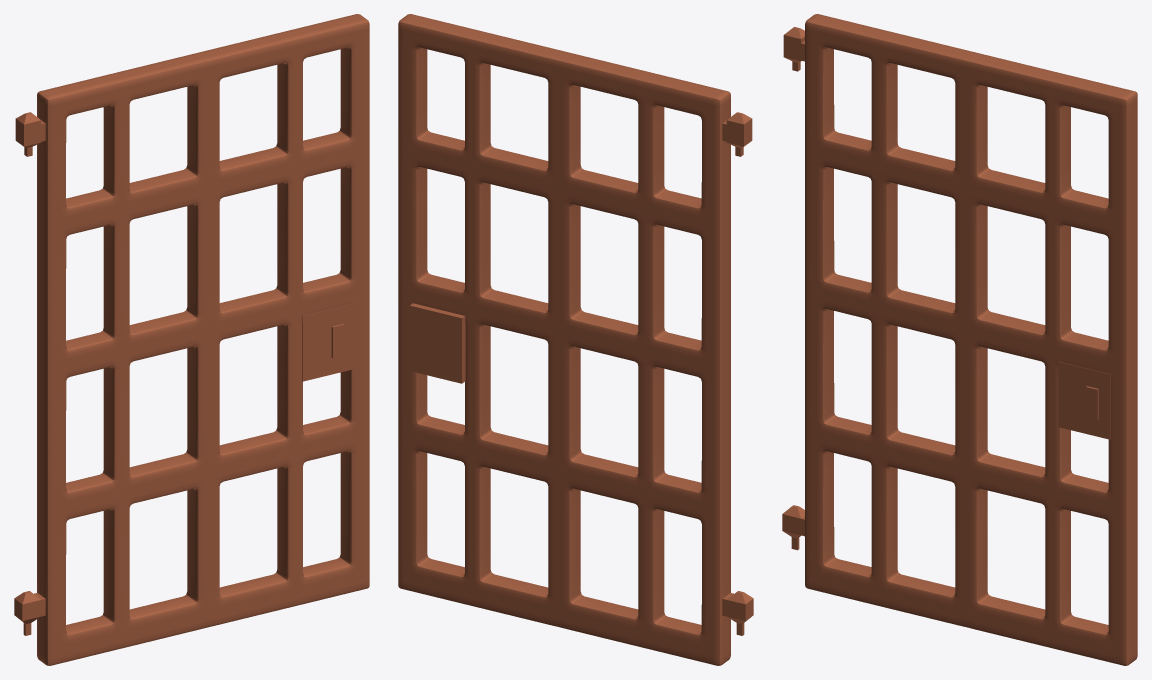
File: porte.fbx
The picture shows the model from 3 angles, left to right: view 1: azimuth 30°, elevation 25°; view 2: azimuth 150°, elevation 25°; view 3: azimuth 330°, elevation 25°; orthographic projection.
Parts seen in each view (by area): view 1: geo_porte_cellule; view 2: geo_porte_cellule; view 3: geo_porte_cellule.
Boxes of the visible parts, x1,y1,x2,y2 form: geo_porte_cellule: [14, 14, 369, 665]; geo_porte_cellule: [398, 14, 753, 665]; geo_porte_cellule: [782, 14, 1137, 665].
Size of the model in its own units: 13.62 by 21.33 by 1.14.
